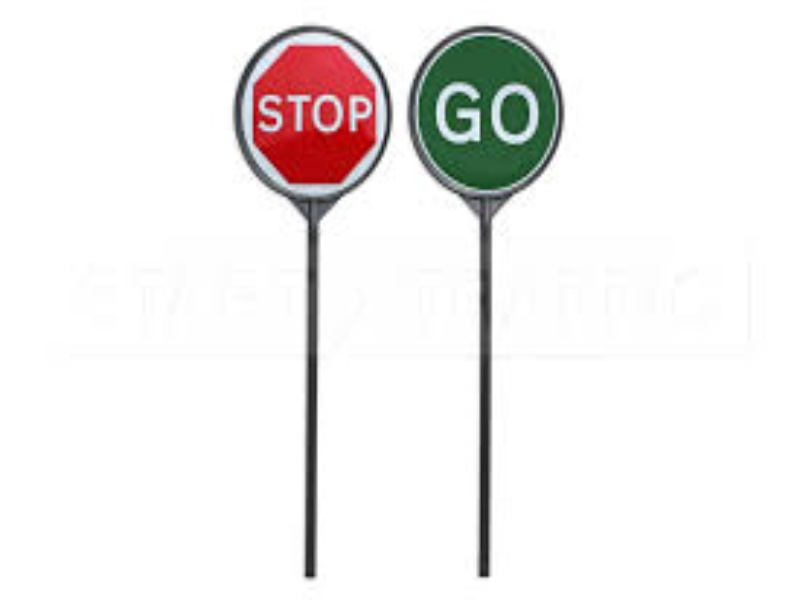Stop_Sign: (248, 39, 380, 191)
